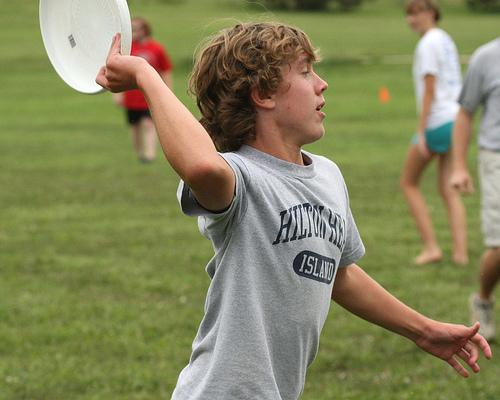person: (97, 22, 492, 400)
